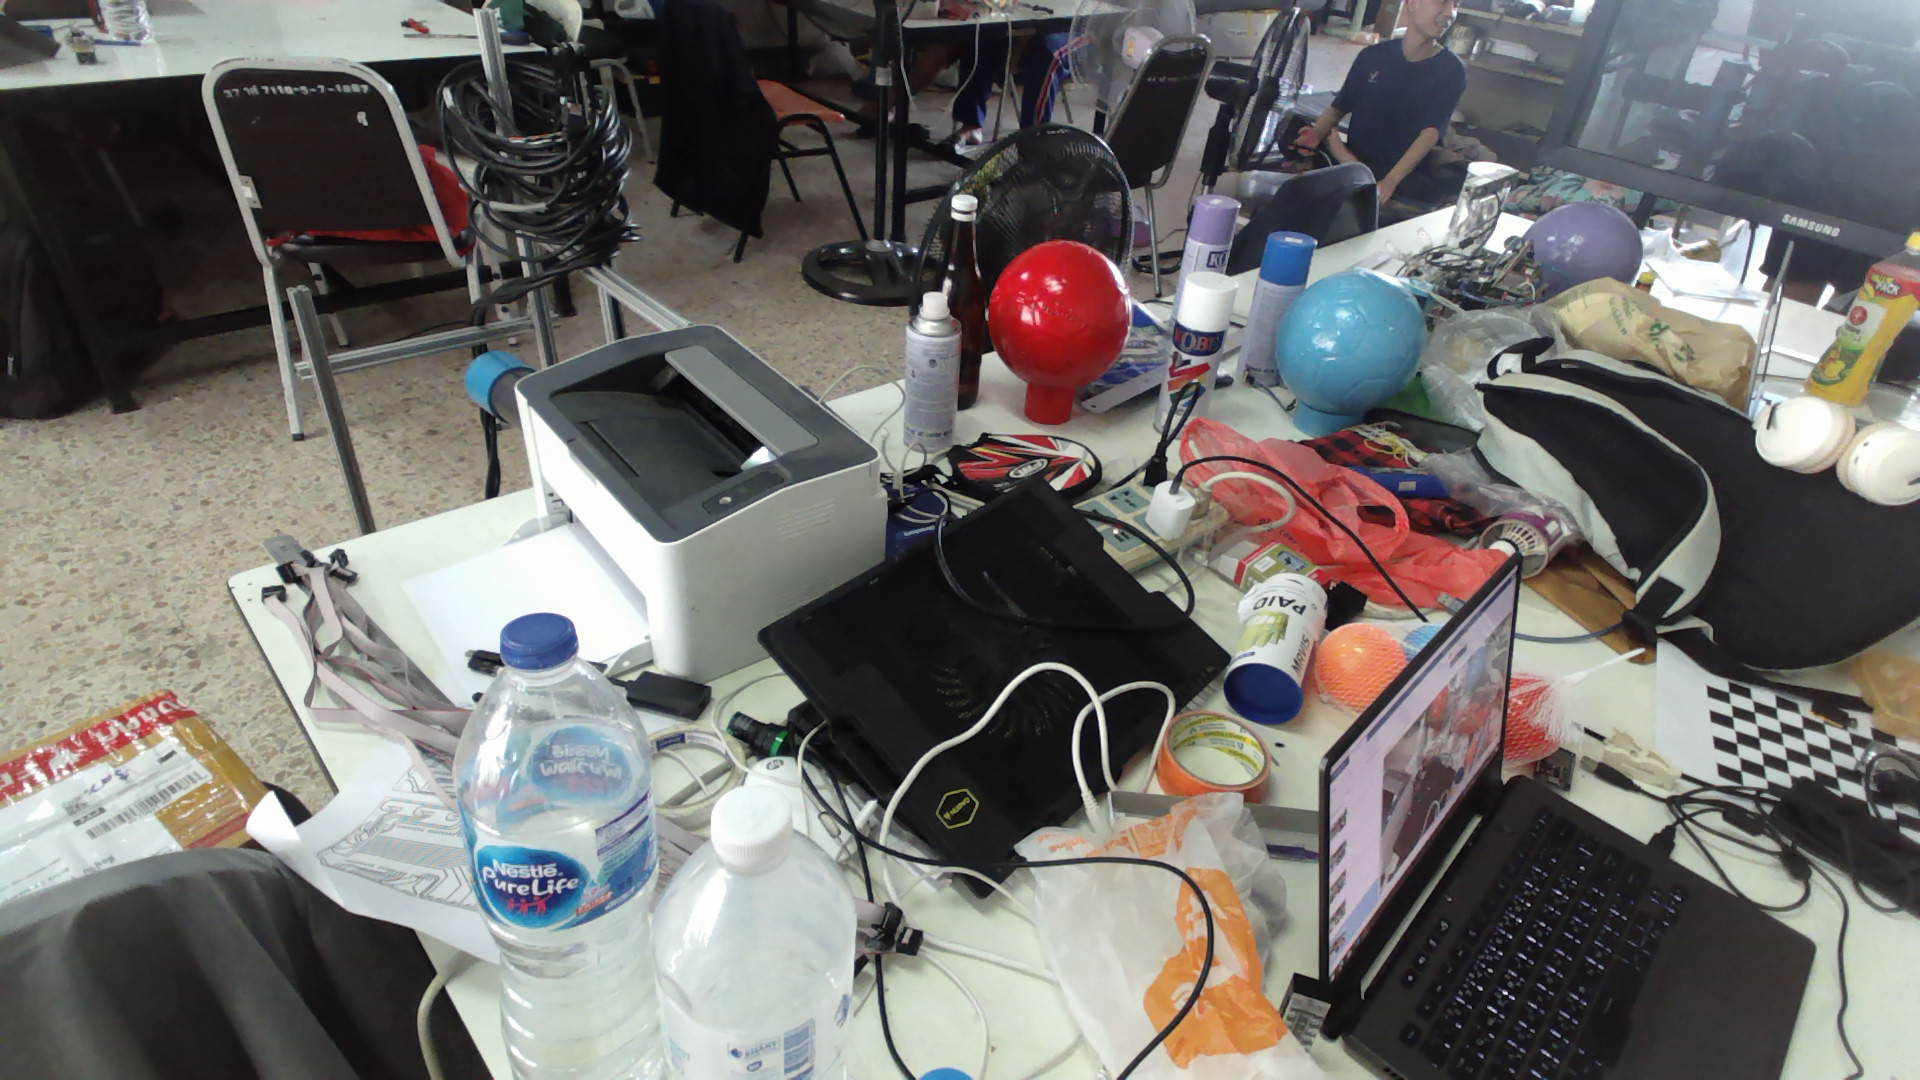Blue ball: (1273, 266, 1429, 417)
Purple ball: (1516, 200, 1644, 290)
Red ball: (986, 237, 1131, 392)
